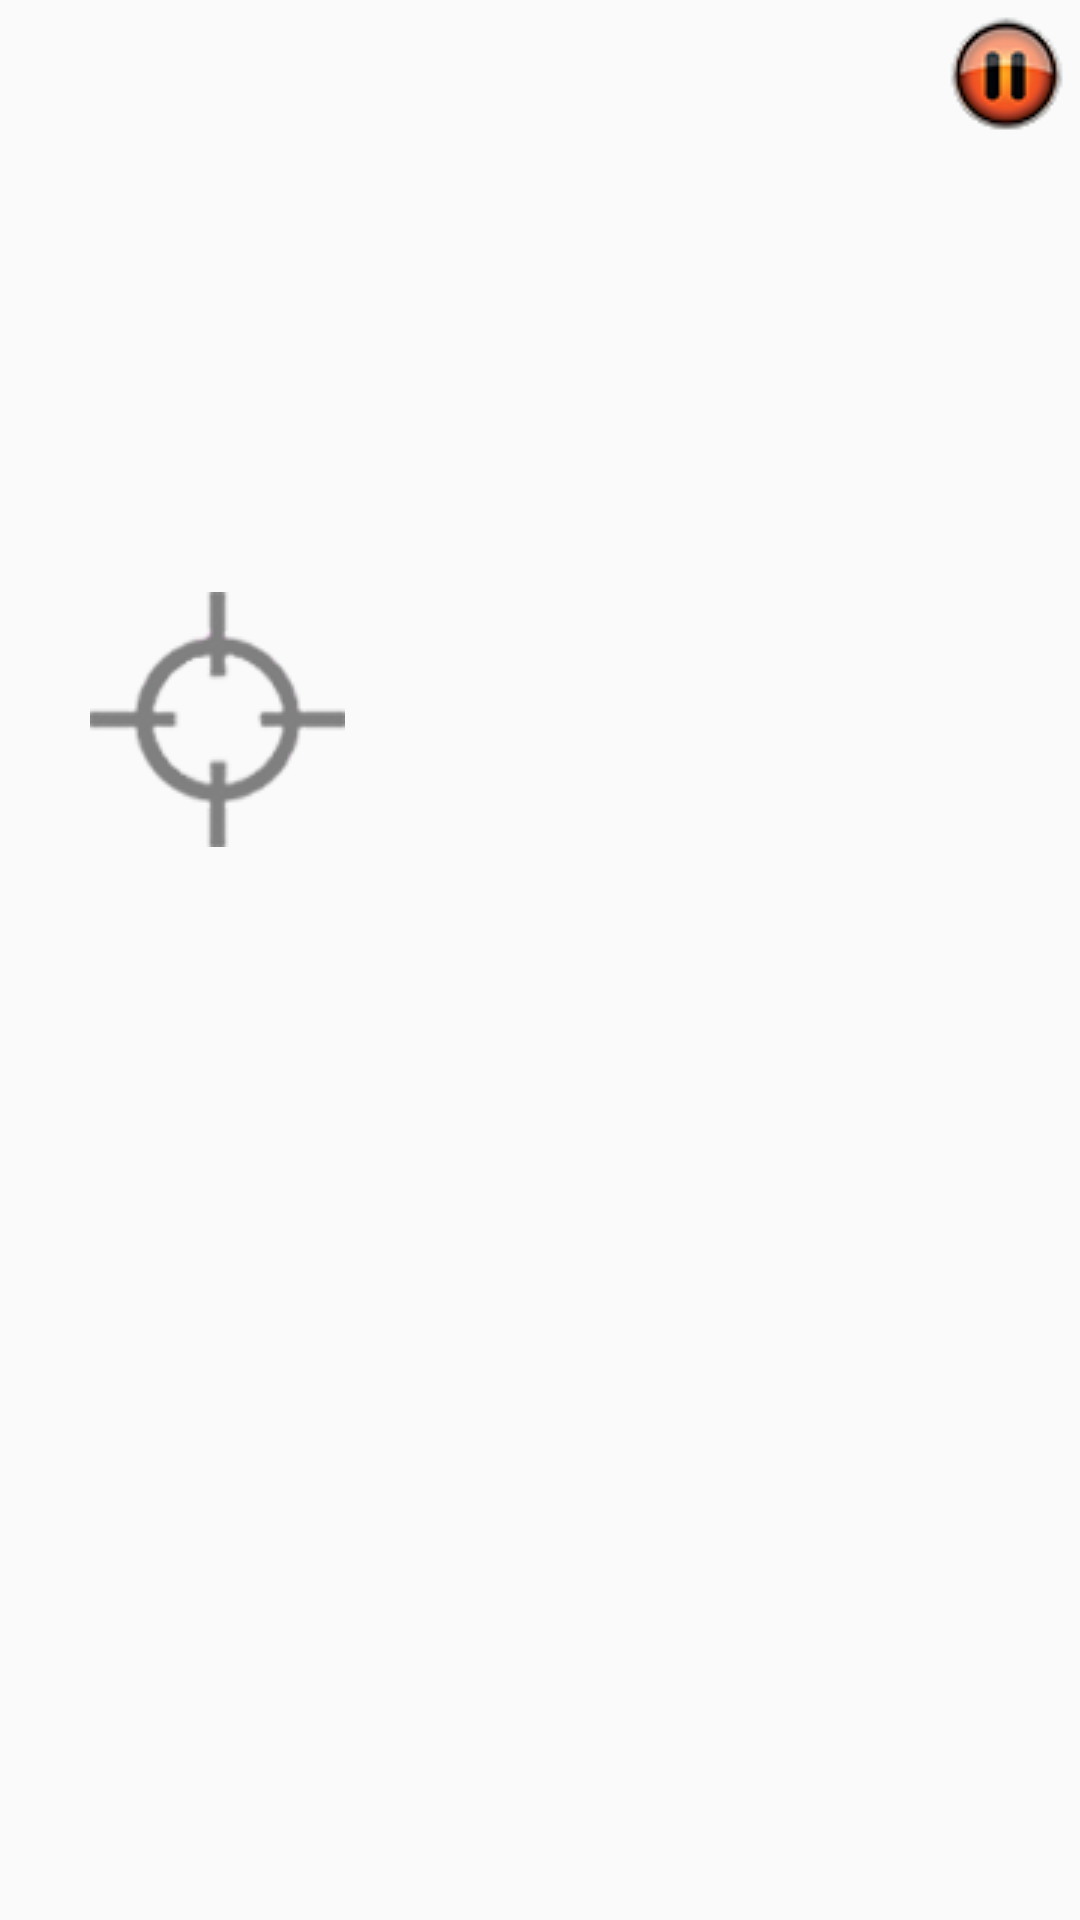

Point at icon controls on the screen. Image size 1080 × 1920, points as point (x, y).
pause: point (1006, 74)
shoot: point (217, 719)
